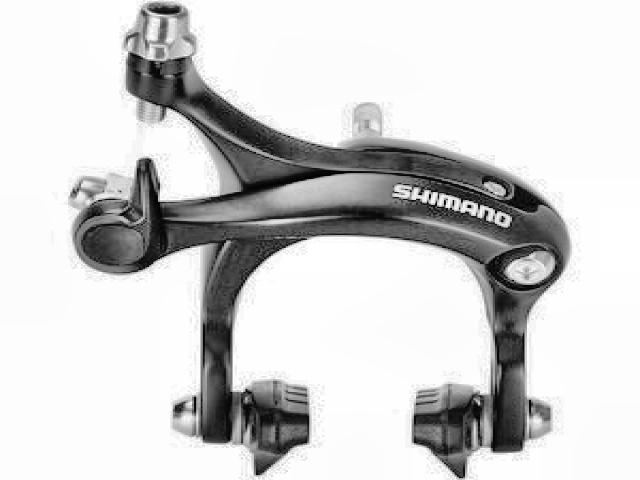rim_brake: (72, 1, 576, 477)
